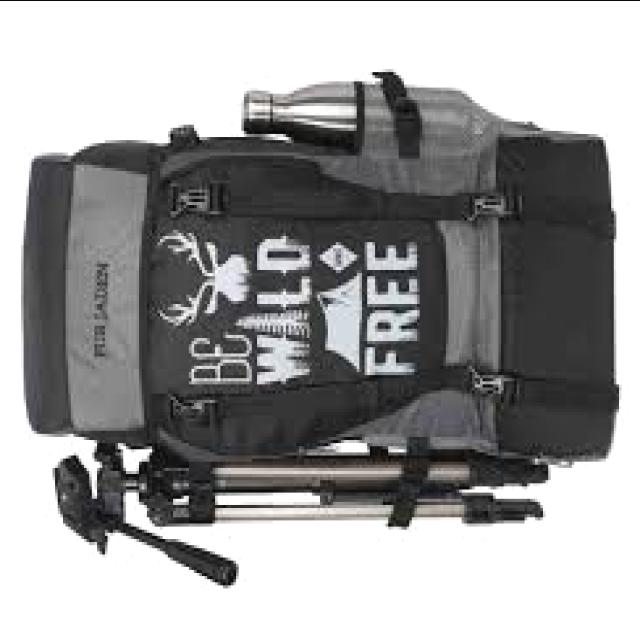backpack: (20, 73, 620, 589)
